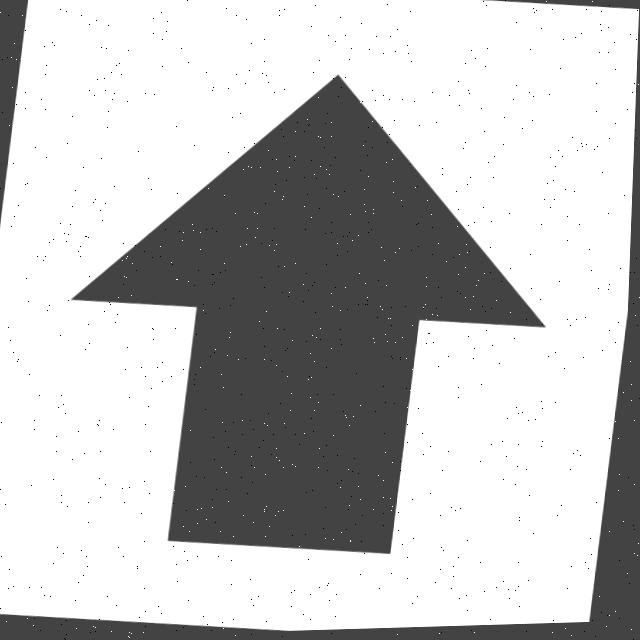UP: (76, 78, 545, 555)
